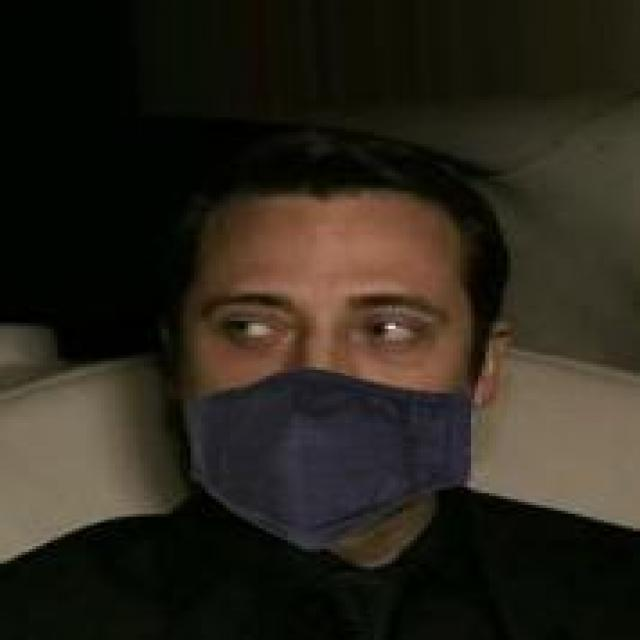mask: (176, 147, 518, 581)
